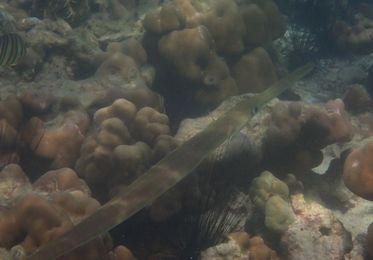Fistularia commersonii: (12, 52, 354, 235)
